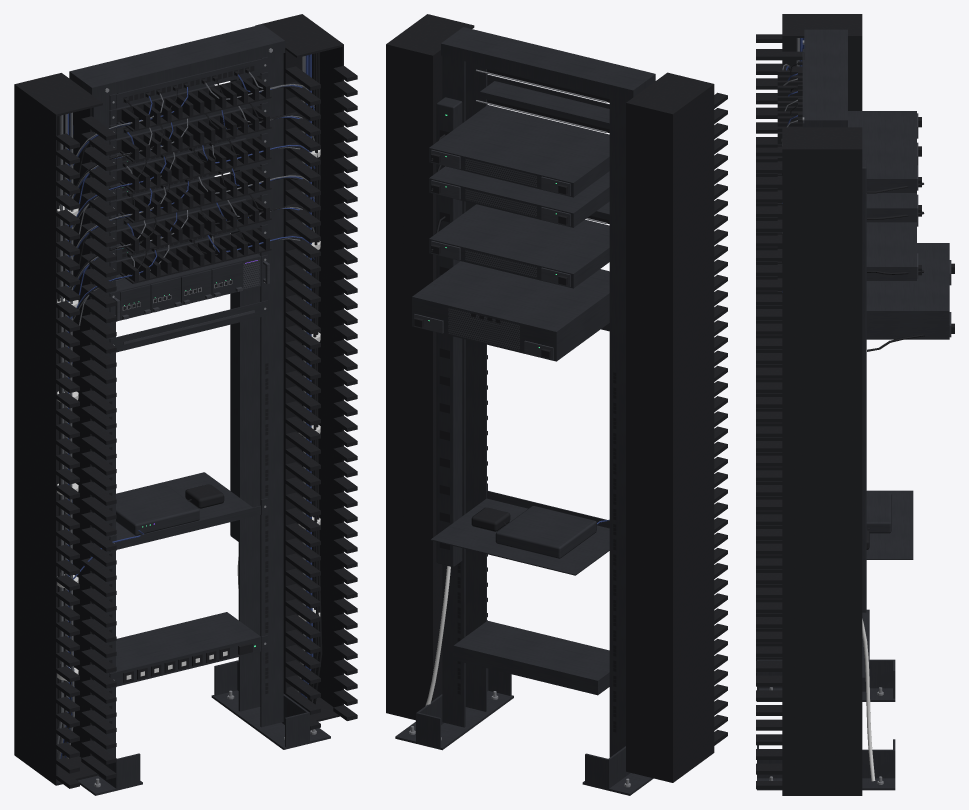
File: server_rack_open.glb
The picture shows the model from 3 angles, left to right: view 1: azimuth 30°, elevation 25°; view 2: azimuth 150°, elevation 25°; view 3: azimuth 270°, elevation 25°; orthographic projection. The views are drawn at different scales.
Visible parts, largest first — view 1: manager_r_plastic_dark_0, manager_l_plastic_dark_0, frame_graphite_0, managers_h_plastic_dark_2, shelf_graphite_0, pdu_graphite_0, router_graphite_0, managers_h_graphite_0, bundle_l_plastic_dark_2, patch_1_graphite_0, pdu_v_graphite_0, bundle_r_cable_grey_1 (+11 smaller); view 2: manager_r_plastic_dark_0, manager_l_plastic_dark_0, frame_graphite_0, router_graphite_0, switch_1_graphite_0, switch_3_graphite_0, shelf_graphite_0, pdu_graphite_0, pdu_v_graphite_0, switch_2_graphite_0, patch_2_graphite_0, router_steel_perforated_3 (+12 smaller); view 3: manager_l_plastic_dark_0, manager_r_plastic_dark_0, frame_graphite_0, router_graphite_0, switch_1_graphite_0, shelf_graphite_0, switch_3_graphite_0, pdu_v_graphite_0, managers_h_plastic_dark_2, switch_2_graphite_0, pdu_v_rubber_3, pdu_v_plastic_dark_1 (+1 smaller).
Boxes of the visible parts, left/top/right/bottom form: manager_r_plastic_dark_0: left=14, top=73, right=116, bottom=788; manager_l_plastic_dark_0: left=255, top=14, right=357, bottom=729; frame_graphite_0: left=69, top=24, right=330, bottom=795; managers_h_plastic_dark_2: left=116, top=74, right=271, bottom=283; shelf_graphite_0: left=109, top=472, right=268, bottom=551; pdu_graphite_0: left=109, top=612, right=268, bottom=688; router_graphite_0: left=109, top=233, right=268, bottom=323; managers_h_graphite_0: left=109, top=72, right=268, bottom=353; bundle_l_plastic_dark_2: left=308, top=52, right=322, bottom=704; patch_1_graphite_0: left=109, top=57, right=268, bottom=110; pdu_v_graphite_0: left=230, top=79, right=238, bottom=541; bundle_r_cable_grey_1: left=57, top=112, right=74, bottom=759; manager_r_plastic_dark_0: left=626, top=72, right=727, bottom=782; manager_l_plastic_dark_0: left=386, top=14, right=487, bottom=720; frame_graphite_0: left=395, top=27, right=655, bottom=795; router_graphite_0: left=412, top=261, right=609, bottom=361; switch_1_graphite_0: left=429, top=104, right=609, bottom=197; switch_3_graphite_0: left=429, top=204, right=609, bottom=288; shelf_graphite_0: left=430, top=483, right=609, bottom=575; pdu_graphite_0: left=453, top=620, right=609, bottom=695; pdu_v_graphite_0: left=436, top=97, right=462, bottom=567; switch_2_graphite_0: left=429, top=166, right=609, bottom=227; patch_2_graphite_0: left=480, top=74, right=609, bottom=129; router_steel_perforated_3: left=448, top=308, right=519, bottom=350; manager_l_plastic_dark_0: left=756, top=127, right=862, bottom=795; manager_r_plastic_dark_0: left=756, top=14, right=862, bottom=675; frame_graphite_0: left=757, top=29, right=895, bottom=790; router_graphite_0: left=866, top=243, right=949, bottom=339; switch_1_graphite_0: left=848, top=111, right=916, bottom=192; shelf_graphite_0: left=866, top=490, right=913, bottom=559; switch_3_graphite_0: left=866, top=222, right=916, bottom=280; pdu_v_graphite_0: left=862, top=159, right=866, bottom=612; managers_h_plastic_dark_2: left=777, top=70, right=802, bottom=293; switch_2_graphite_0: left=866, top=193, right=916, bottom=222; pdu_v_rubber_3: left=862, top=618, right=875, bottom=781; pdu_v_plastic_dark_1: left=867, top=182, right=924, bottom=351.
Size of what is drawn, in the model's own units: 0.88 by 2 by 0.546.
Materials: 11 (8 with a texture image).
